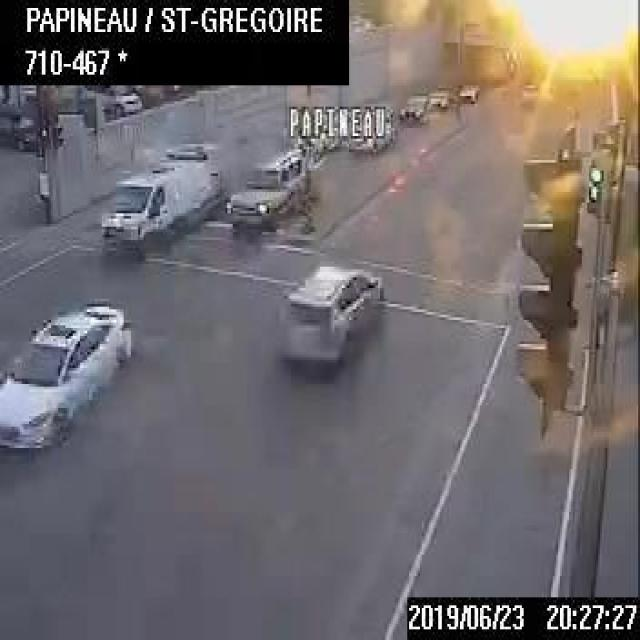vehicle: (0, 291, 135, 453), (93, 139, 218, 256), (280, 258, 380, 362), (224, 142, 307, 231), (100, 82, 143, 115), (395, 92, 428, 125), (455, 77, 479, 106), (427, 85, 450, 110)
